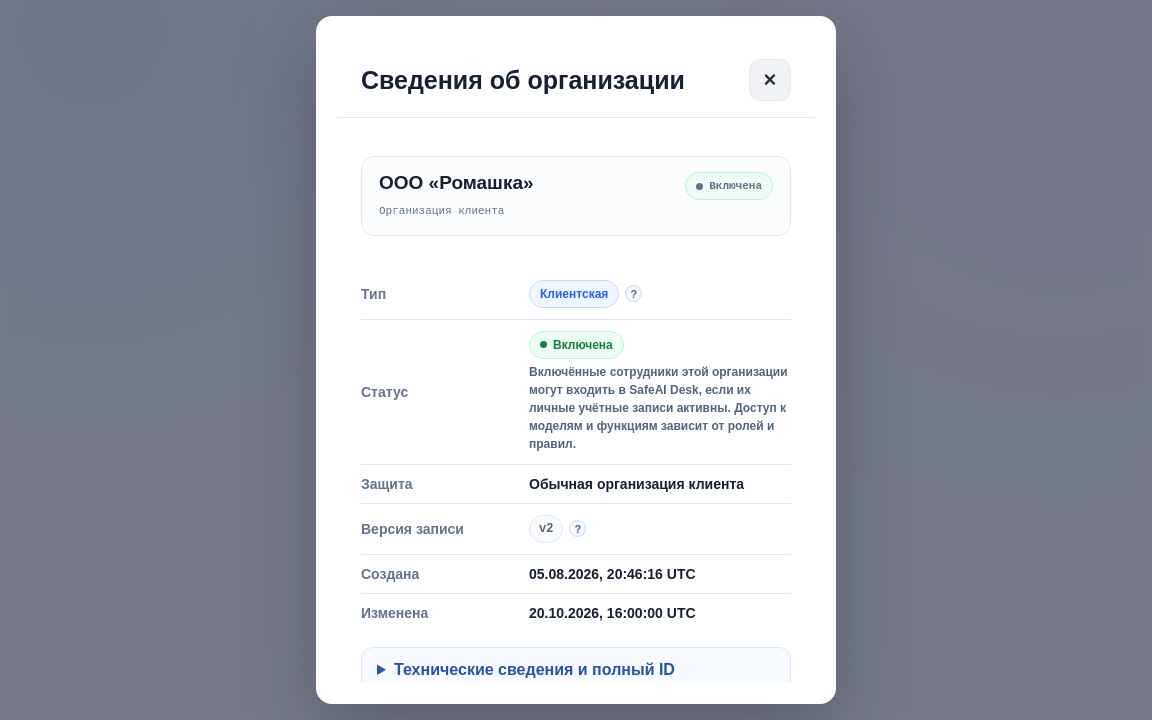
Scenario: Organization details: safe actions and explanations › explains identifiers and version without enabling manual edits
Expected: the text "ООО «Ромашка»" is shown, [379,172,534,194]
Expected: the text "Включённые сотрудники этой организации могут входить" is shown, [529,364,788,450]
Click the heading "Технические сведения и полный ID".
click(534, 669)  # box [394,660,675,678]
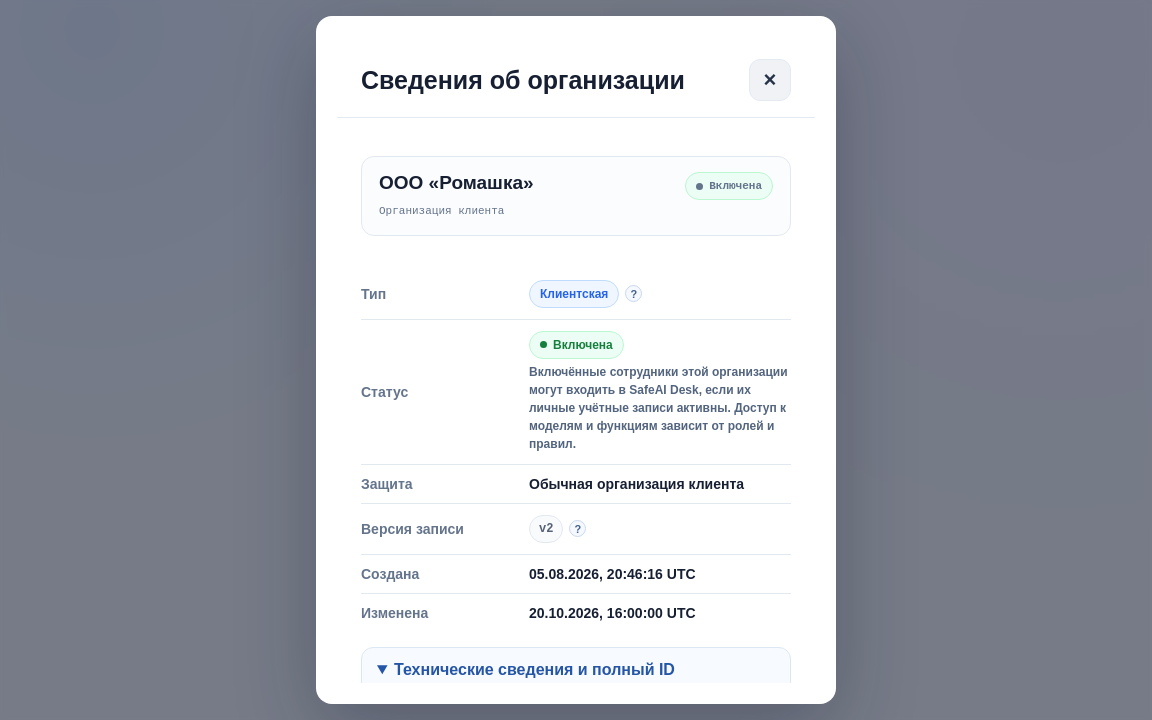
Click the heading named "Версия организации: 2. Подробнее".
click(558, 528)  # box [529,514,586,542]
(page scrolled)
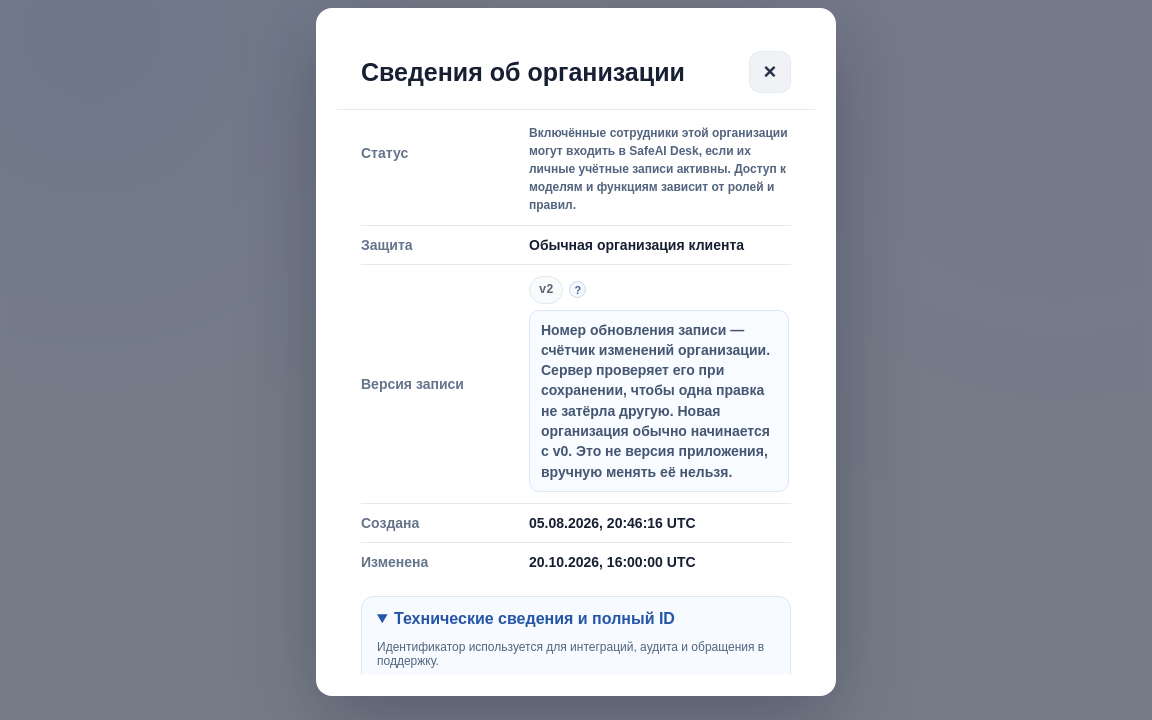
Expected: the text "Номер обновления записи" is shown, [541,322,770,480]
